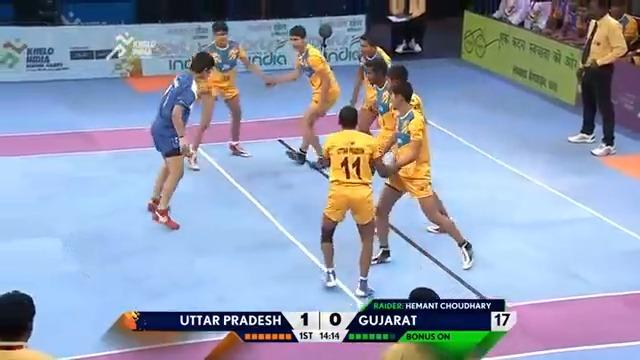Player: (370, 79, 476, 270), (313, 103, 399, 298), (184, 19, 274, 169), (264, 23, 341, 171)
Raider: (144, 50, 216, 231)
referee: (566, 0, 628, 156), (387, 0, 428, 54)
